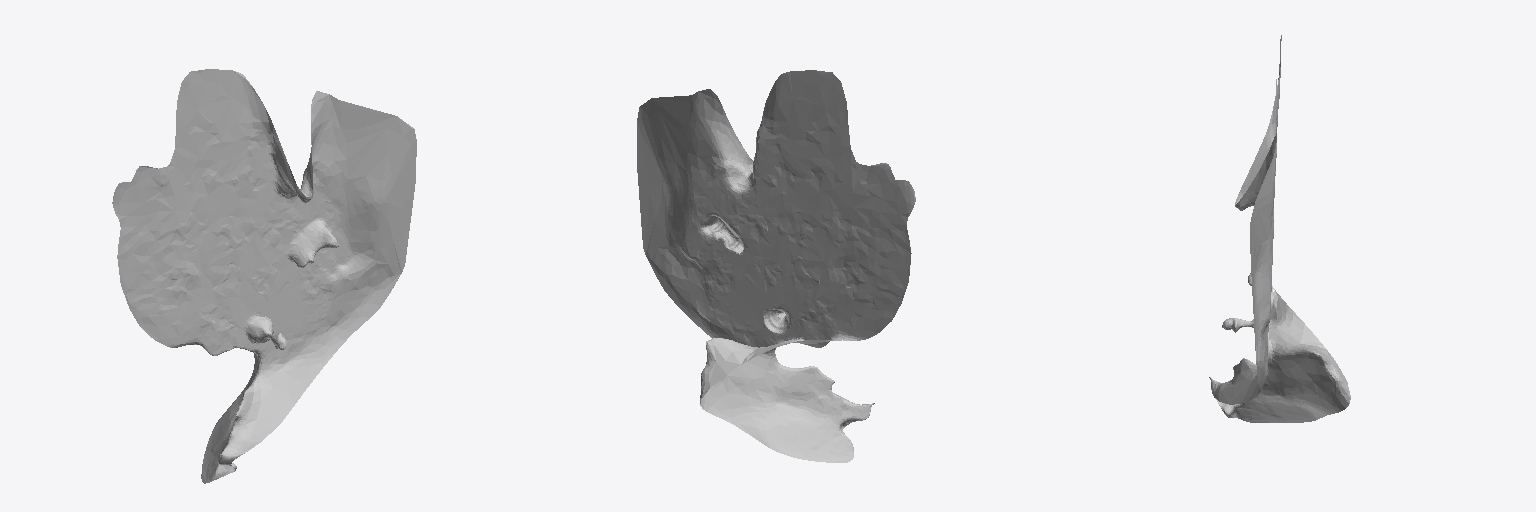
The model's file is chess2.obj.
3 views of the same model, side by side, from view 1: azimuth 30°, elevation 25°; view 2: azimuth 150°, elevation 25°; view 3: azimuth 270°, elevation 25° (orthographic).
Visible parts, largest first — view 1: Box001; view 2: Box001; view 3: Box001.
Boxes of the visible parts, <box> form: Box001: <box>112,69,416,483</box>; Box001: <box>637,70,915,462</box>; Box001: <box>1209,35,1350,422</box>.
Bounding box in the file's own units: 68.37 × 89.54 × 28.89.